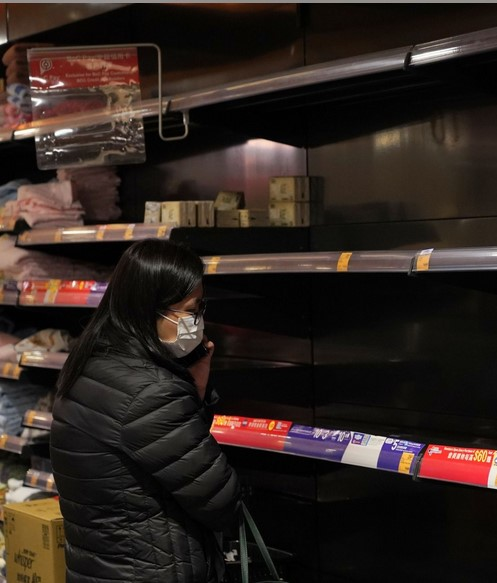face_with_mask: (108, 238, 209, 363)
